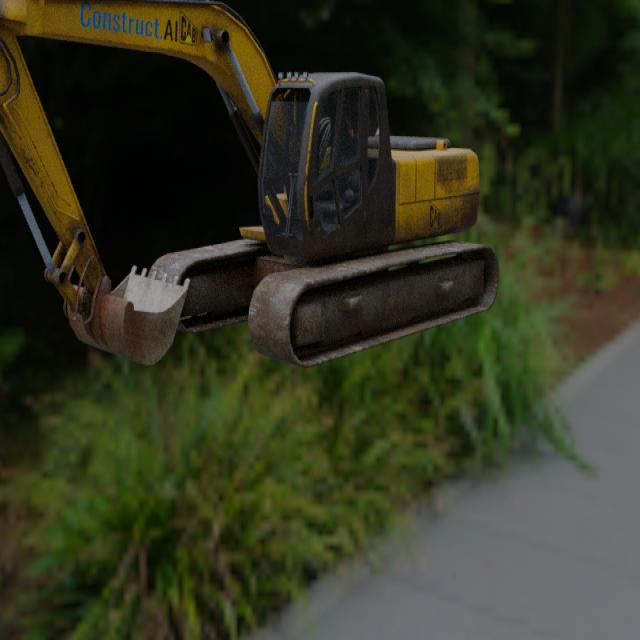excavator: (0, 0, 500, 369)
